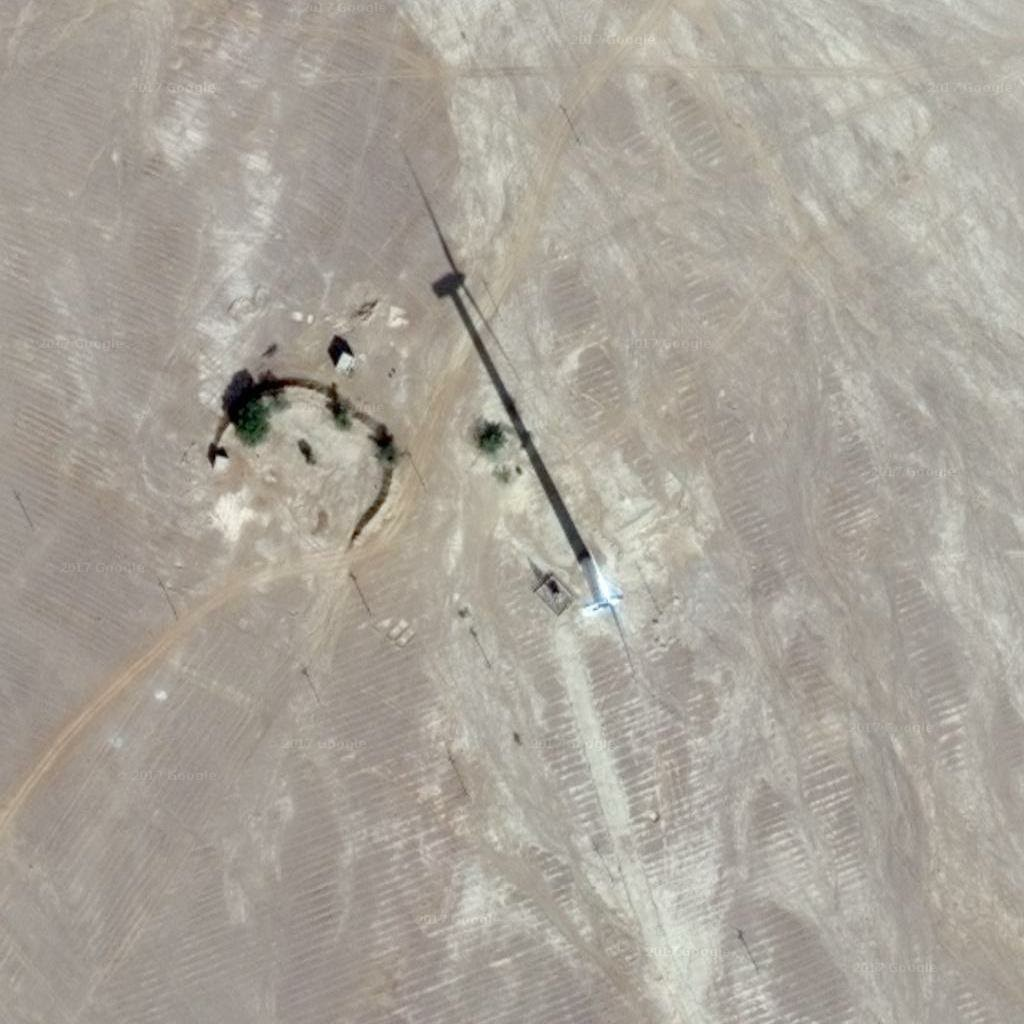Windmill: (396, 160, 599, 552)
